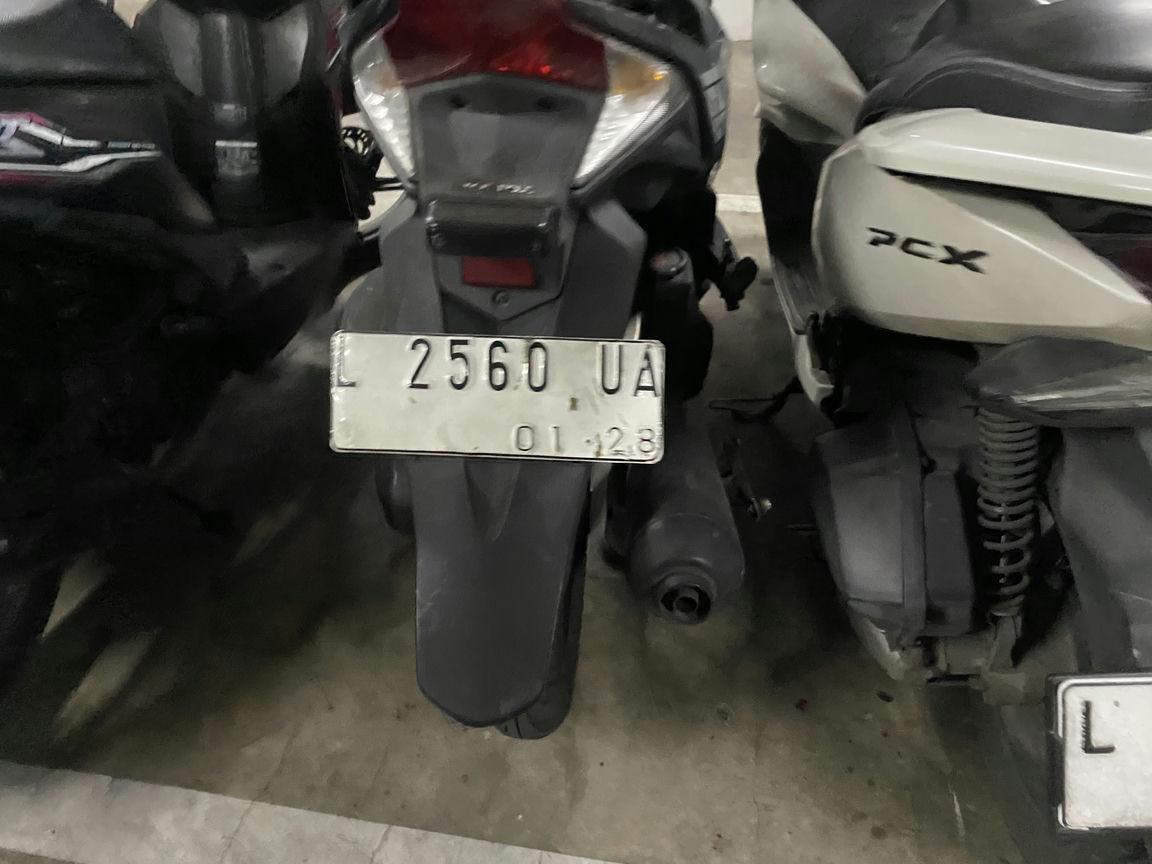plat: (331, 331, 666, 464)
